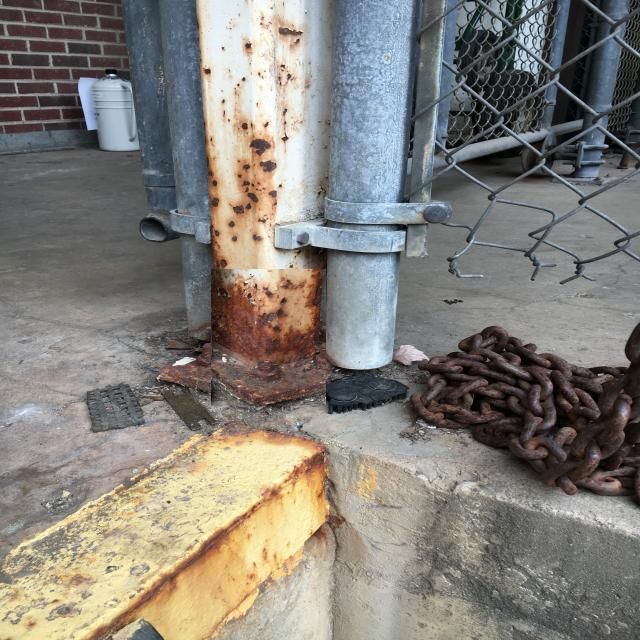Corrosion: (413, 326, 640, 504), (157, 344, 331, 406), (126, 528, 234, 602), (212, 283, 275, 364), (221, 420, 325, 458), (262, 455, 327, 487), (274, 331, 314, 358), (221, 506, 261, 528), (91, 615, 140, 630), (316, 270, 326, 338), (100, 605, 142, 620), (211, 259, 224, 294), (234, 174, 256, 192), (250, 138, 271, 154), (281, 277, 306, 288), (279, 26, 302, 36), (263, 283, 276, 298), (212, 221, 222, 238), (260, 162, 277, 172), (238, 160, 249, 170), (276, 309, 287, 318), (216, 259, 227, 268), (248, 192, 257, 202), (233, 205, 242, 214), (210, 198, 219, 206), (218, 110, 227, 118), (208, 166, 213, 178), (281, 298, 288, 306), (228, 220, 235, 228), (268, 190, 277, 196), (257, 216, 266, 222), (203, 67, 210, 74), (245, 41, 252, 48), (245, 203, 252, 210), (242, 122, 248, 130), (253, 236, 262, 241), (232, 235, 238, 242), (211, 180, 217, 186), (282, 133, 287, 140), (219, 98, 225, 102), (264, 121, 268, 126)
